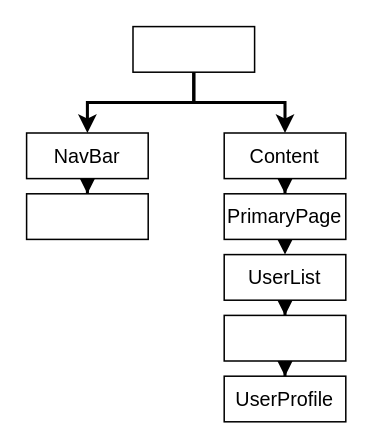
This 372x448 diagram has some shape labels left out. Each missing label, with the centre of its shape:
"App" belongs at (193,48).
"NavLink" belongs at (86,215).
"UserShow" belongs at (284,337).
